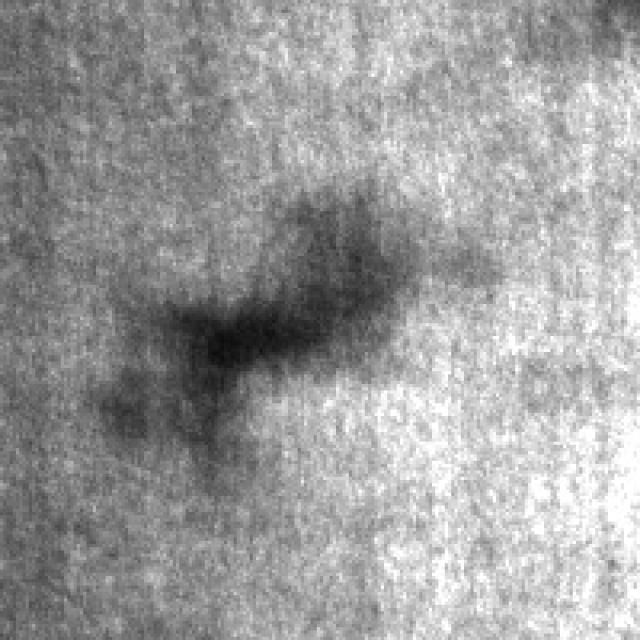patches: (163, 224, 394, 403)
